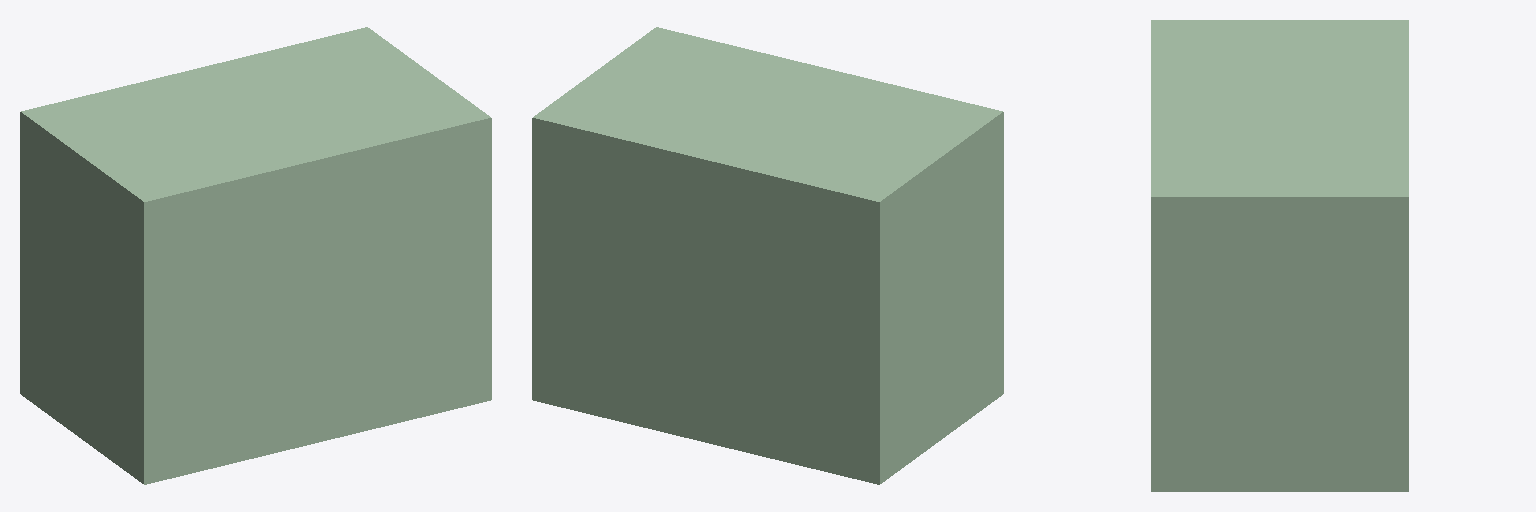
robot.urdf — box.urdf:
<?xml version="1.0" ?>
<robot name="box.urdf">
  <link name="baseLink">
    <contact>
      <lateral_friction value="1.0"/>
      <rolling_friction value="0.0001"/>
      <inertia_scaling value="3.0"/>
    </contact>
    <inertial>
      <origin rpy="0 0 0" xyz="0 0 0"/>
       <mass value="0.1"/>
       <inertia ixx="1" ixy="0" ixz="0" iyy="1" iyz="0" izz="1"/>
    </inertial>
    <visual>
      <origin rpy="0 0 0" xyz="0 0 0"/>
      <geometry>
        <!-- <box size="0.262 0.162 0.204"/> -->
        <mesh filename="box/box.obj" scale="0.262 0.162 0.204"/>
      </geometry>
      <material name="white">
        <color rgba="0.7 0.8 0.7 1"/>
      </material>
    </visual>
    <collision>
      <origin rpy="0 0 0" xyz="0 0 0"/>
      <geometry>
        <mesh filename="box/box.obj" scale="0.262 0.162 0.204"/>
	 	    <!-- <box size="0.262 0.162 0.204"/> -->
      </geometry>
    </collision>
  </link>
</robot>

--- What the picture shows (computed from the rendered views, not written in the file) ---
The picture shows the robot from 3 angles, left to right: view 1: azimuth 30°, elevation 25°; view 2: azimuth 150°, elevation 25°; view 3: azimuth 270°, elevation 25°; orthographic projection.
Model box.urdf with 1 links and 0 joints (none), rooted at baseLink, posed all joints at 0.
Visible links, largest first — view 1: baseLink; view 2: baseLink; view 3: baseLink.
Link boxes in pixels (bbox=[...]): baseLink: bbox=[20, 27, 491, 484]; baseLink: bbox=[532, 27, 1003, 484]; baseLink: bbox=[1151, 20, 1408, 491].
Size in the robot's own frame: 0.262 by 0.162 by 0.204 metres.
1 mesh visuals loaded from 1 distinct referenced files (1 OBJ).
